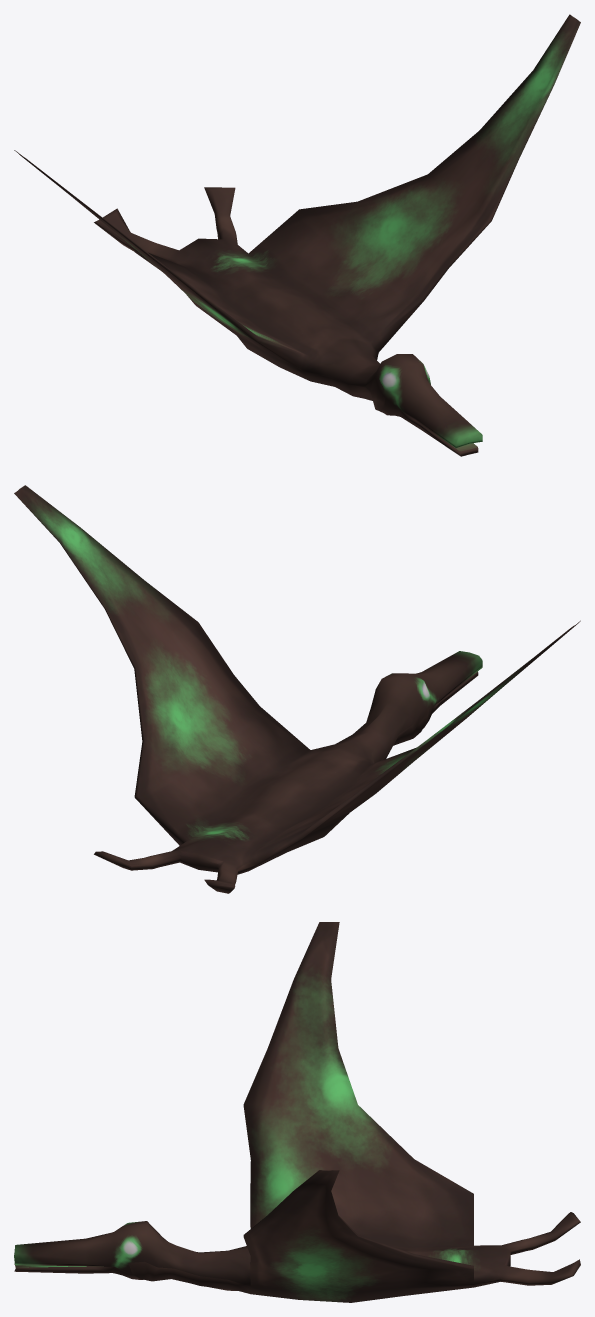
Rendered from Pterodactylus.fbx.
The picture shows the model from 3 angles, top to bottom: view 1: azimuth 30°, elevation 25°; view 2: azimuth 150°, elevation 25°; view 3: azimuth 270°, elevation 25°; orthographic projection. The views are drawn at different scales.
Parts seen in each view (by area): view 1: Cube; view 2: Cube; view 3: Cube.
Boxes of the visible parts, x1,y1,x2,y2 form: Cube: (14,14,580,456); Cube: (14,485,580,893); Cube: (14,922,580,1302).
Size of the model in its own units: 599 by 286 by 577.
